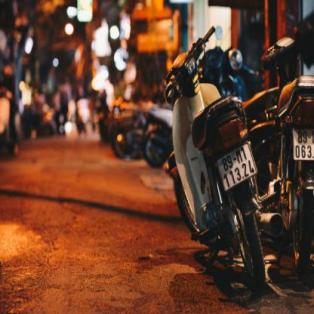Motocicleta: (156, 28, 271, 295), (256, 28, 314, 284)
